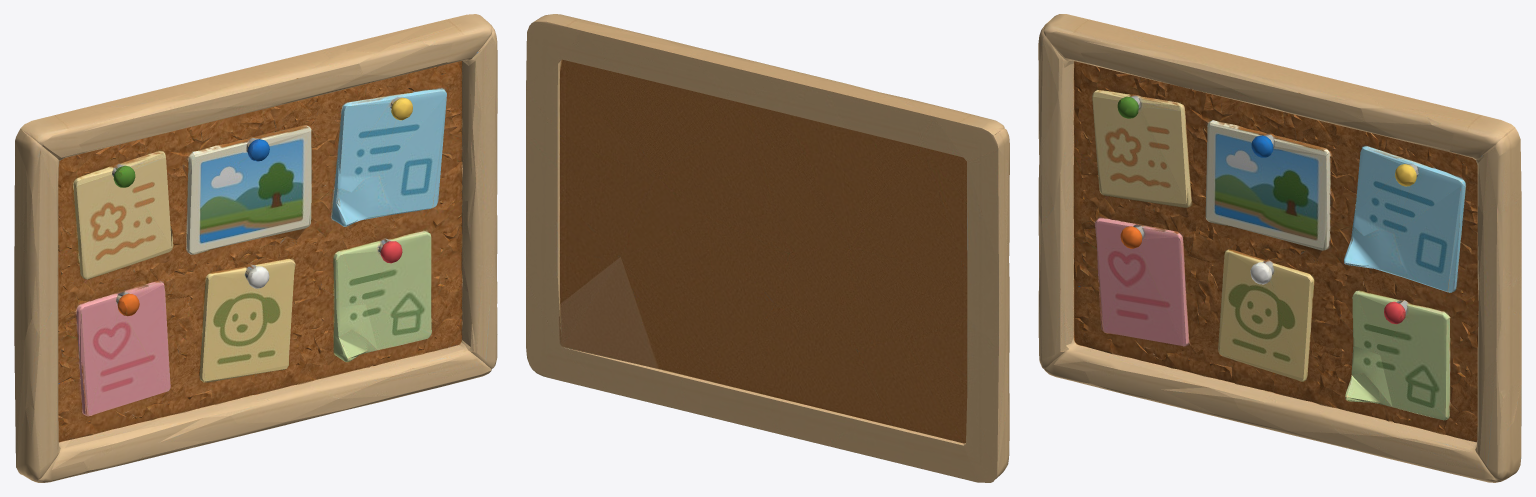
Rendered from corkboard.glb.
3 views of the same model, side by side, from view 1: azimuth 30°, elevation 25°; view 2: azimuth 150°, elevation 25°; view 3: azimuth 330°, elevation 25° (orthographic).
Visible parts, largest first — view 1: mesh_node; view 2: mesh_node; view 3: mesh_node.
Boxes of the visible parts, x1,y1,x2,y2 form: mesh_node: (14,14,497,482); mesh_node: (526,14,1009,482); mesh_node: (1038,14,1521,482).
Bounding box in the file's own units: 0.4047 × 0.2909 × 0.03.
Materials: 1 (1 with a texture image).
